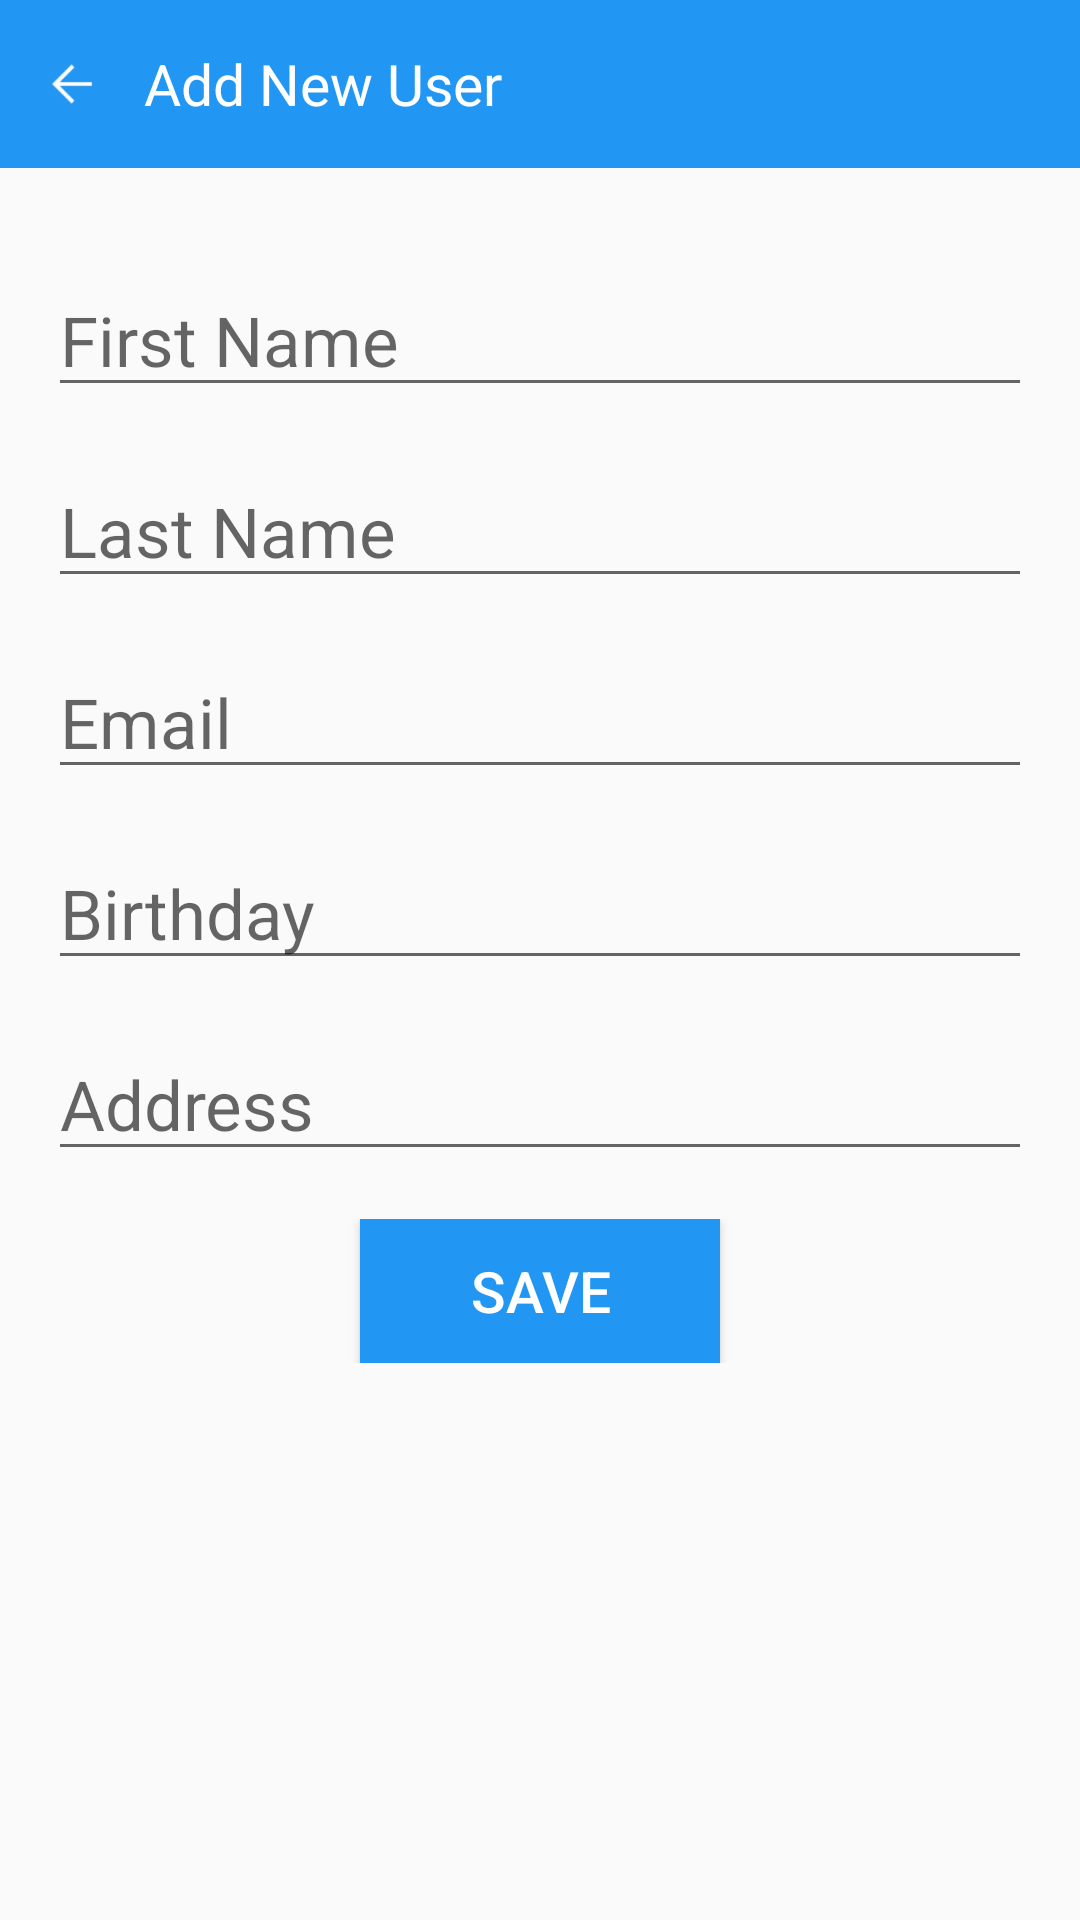

Point at icon controls on the screen. Image size 1080w x 1920h, points as point (x, y).
back: point (72, 84)
